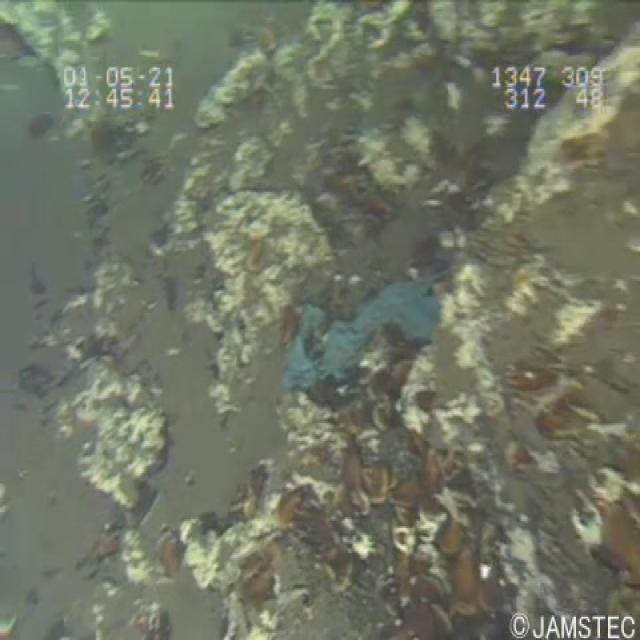plastic: (269, 281, 464, 396)
